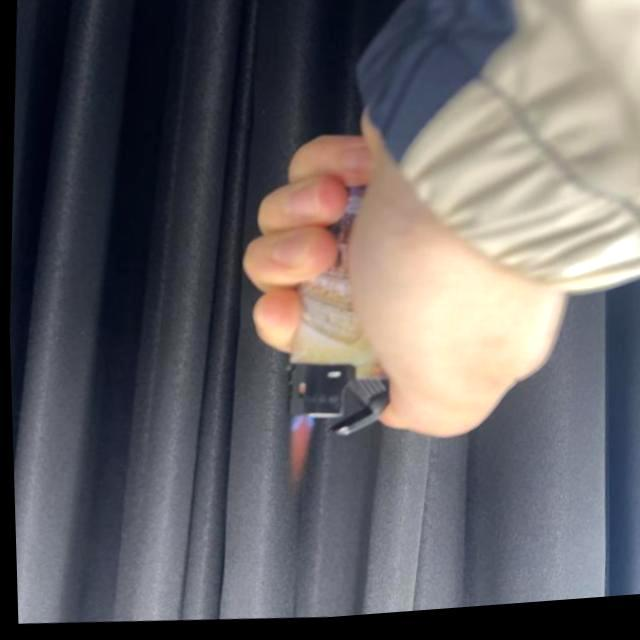fire: (283, 416, 313, 490)
